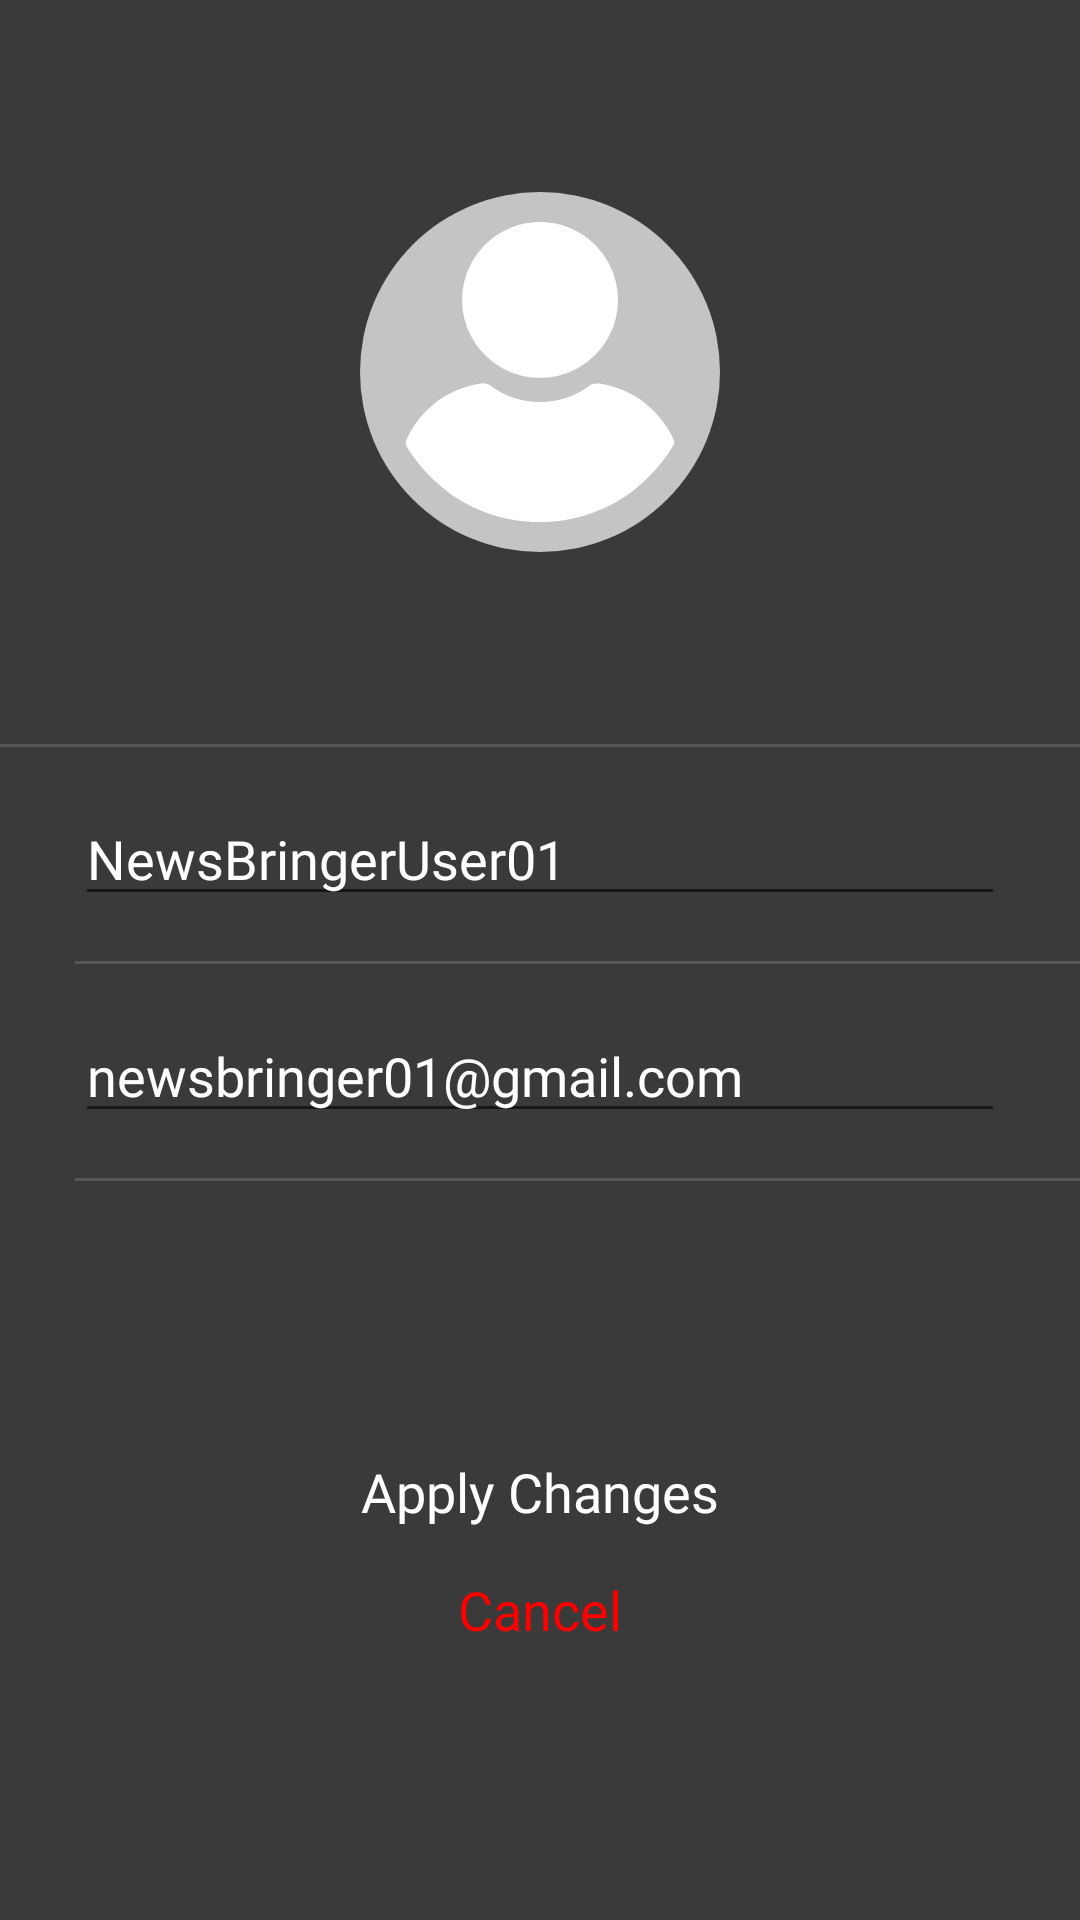

Screen size 1080×1920. Icon name, then its center in pixels as point (x, y):
profpic: point (540, 372)
